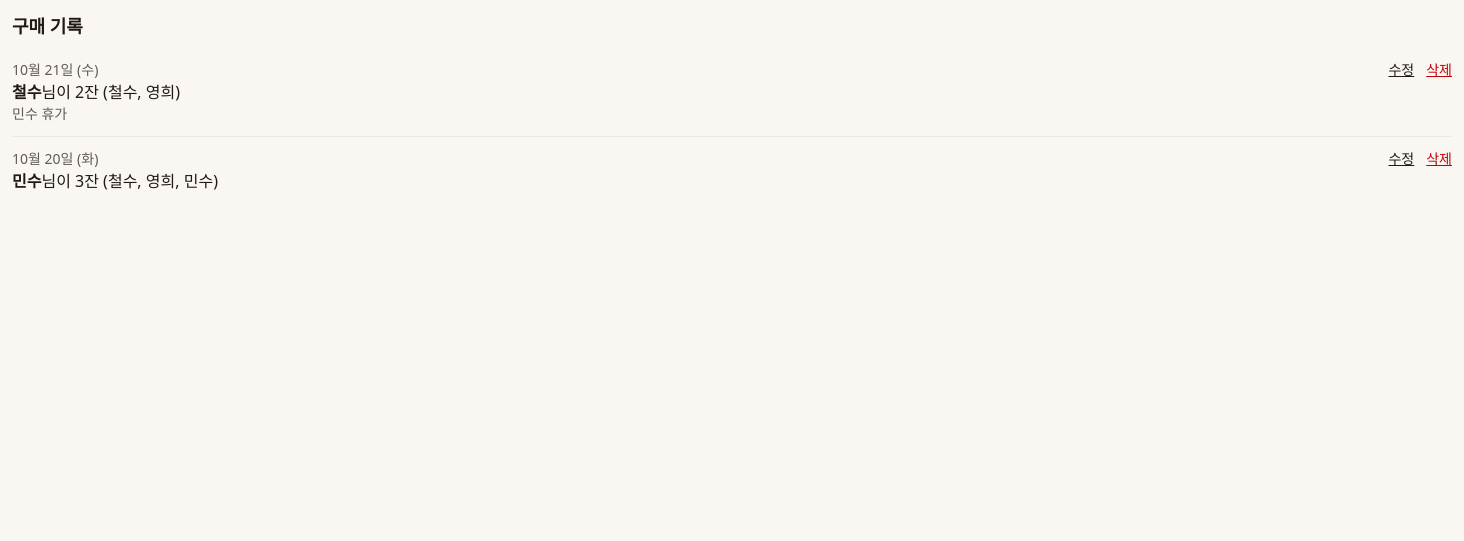
PurchaseHistory › keeps a since-deactivated participant selectable when editing
Click the button "수정" in the row of "10월 20일 (화)" at (1401, 159), box top-left (1388, 149), bottom-right (1414, 169)
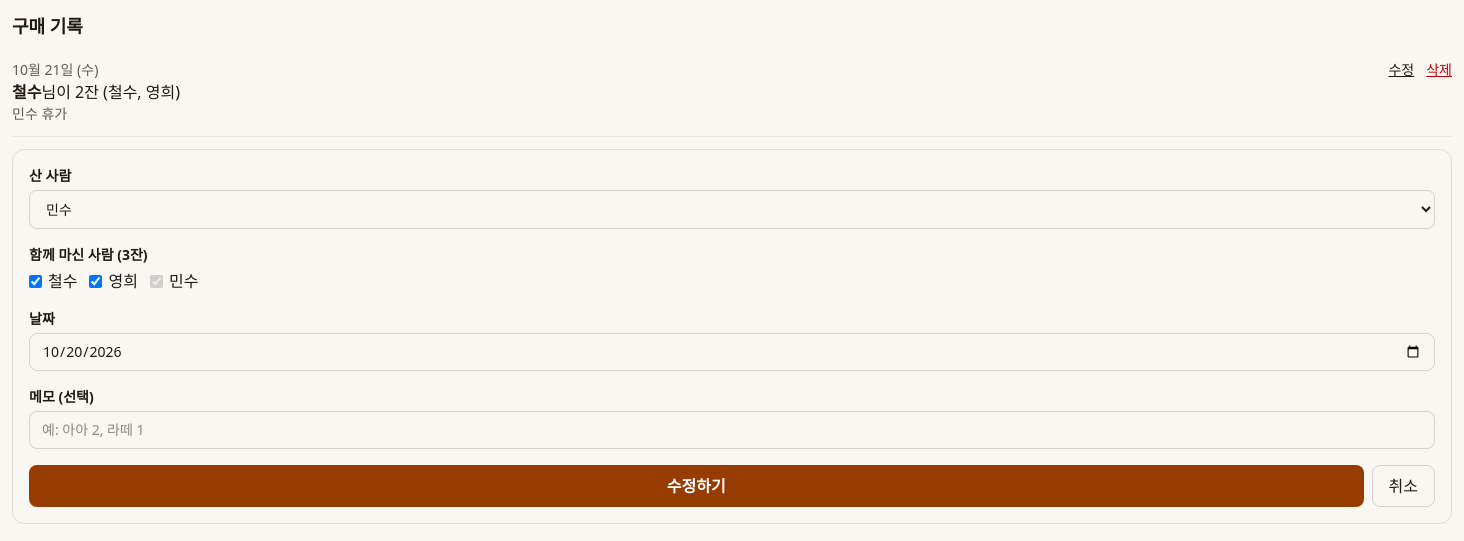
Now the dropdown labelled "산 사람" shows "민수", box top-left (29, 190), bottom-right (1435, 229)
Now the checkbox labelled "민수" is checked, box top-left (150, 274), bottom-right (163, 288)
